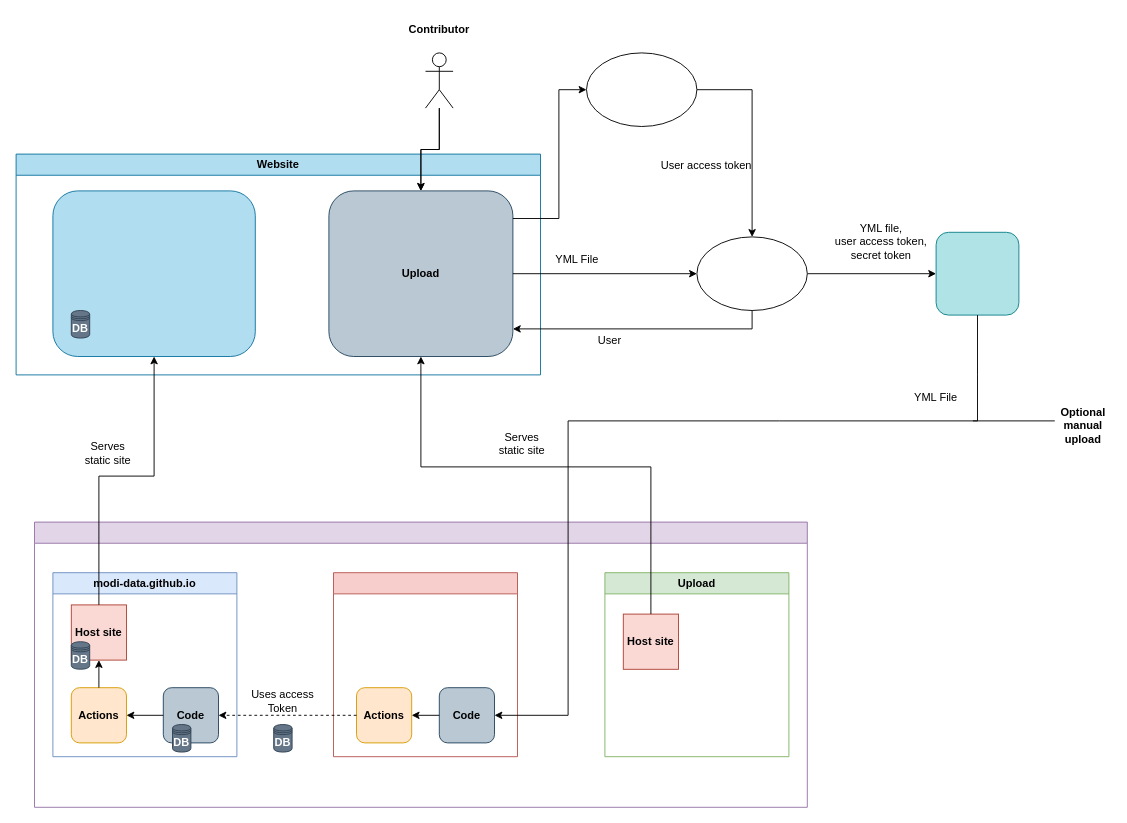
Some shapes in this 1127 by 823 pixel diagram are drawn without their labels. The box of each missing label's shape, as (x1, y1, x2, y2) in pixels:
Actor: (425, 52, 453, 108)
Carnas Server: (696, 236, 807, 310)
Github Access Popup: (586, 52, 697, 126)
Github API: (935, 231, 1019, 315)
Github Modi data Org: (34, 521, 807, 807)
Main site: (52, 190, 255, 356)
modi-metadata: (333, 572, 518, 757)
